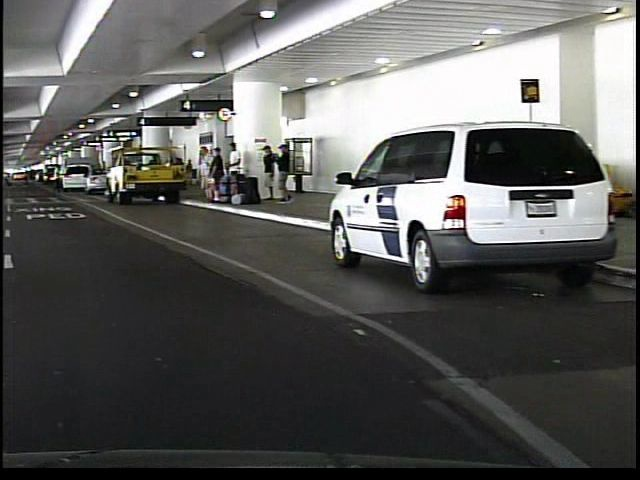person: (193, 141, 212, 203), (273, 143, 290, 207), (48, 163, 60, 194)
